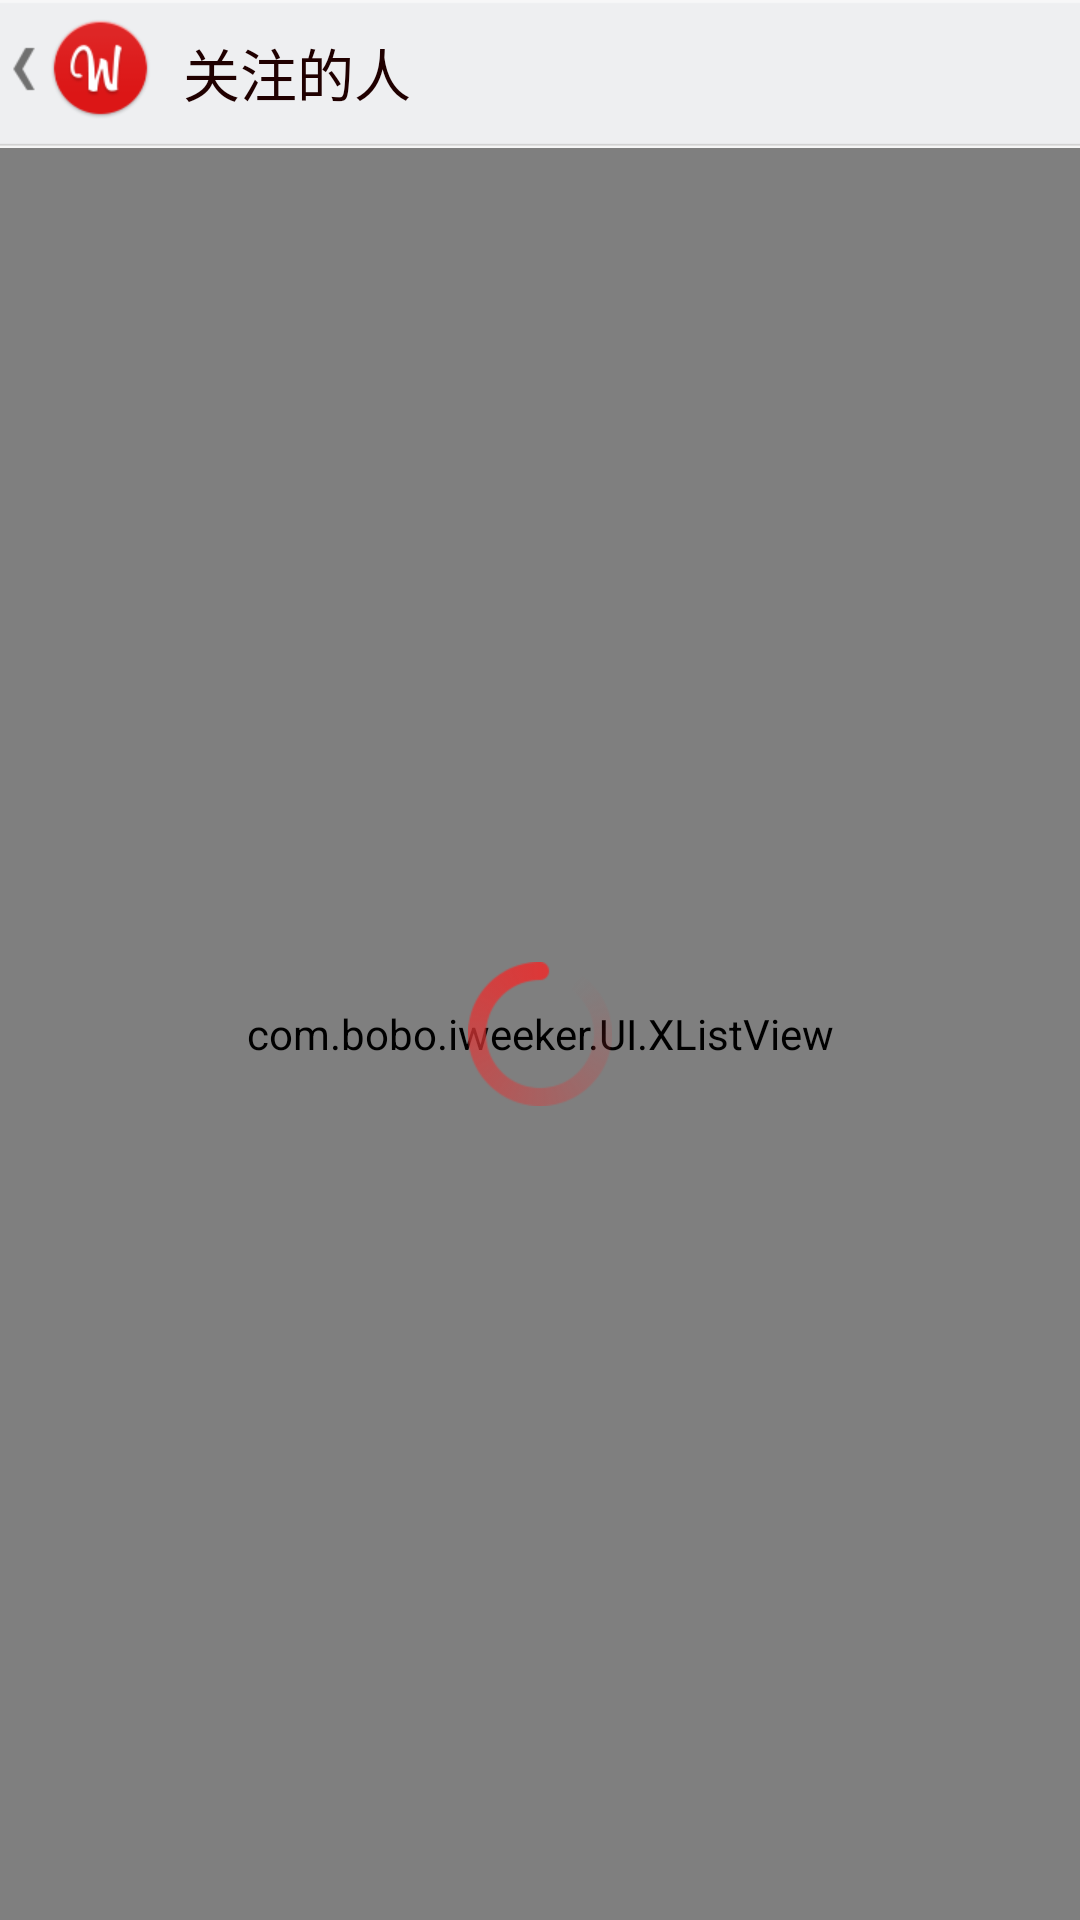

Point at icon controls on the screen. Image size 1080×1920, points as (x=x, y=y).
activity back: (x=24, y=69)
loading: (x=540, y=1034)
